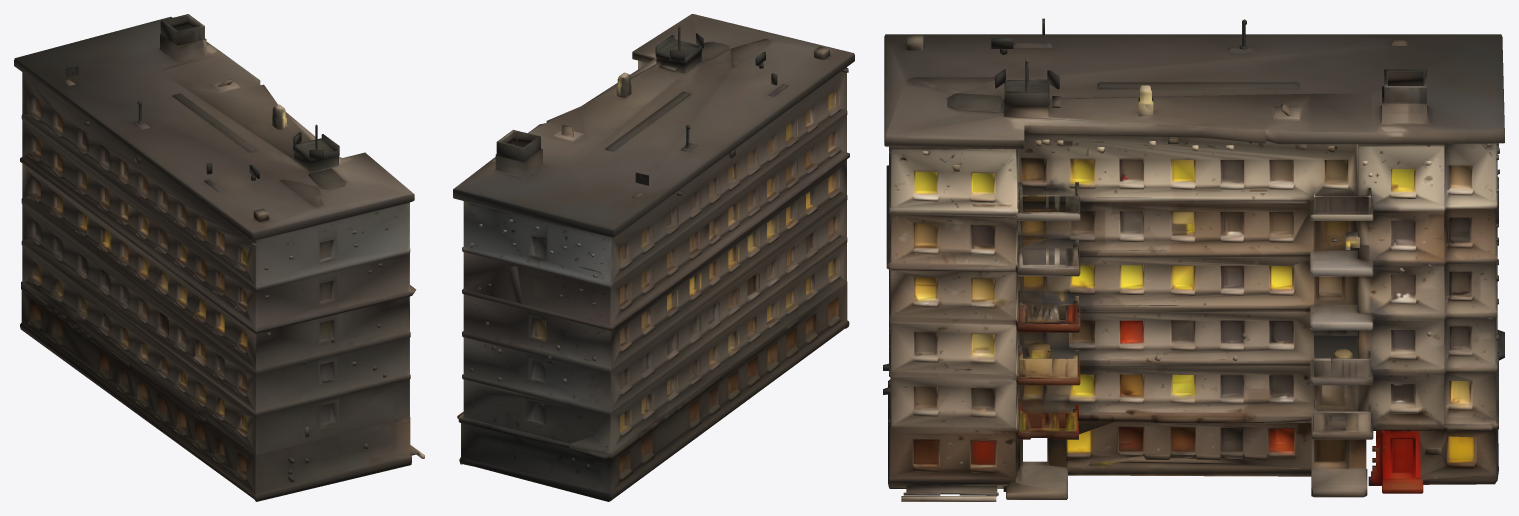
Rendered from khrushchevka.glb.
3 views of the same model, side by side, from view 1: azimuth 30°, elevation 25°; view 2: azimuth 150°, elevation 25°; view 3: azimuth 270°, elevation 25° (orthographic). The views are drawn at different scales.
Visible parts, largest first — view 1: tripo_node_bf4c5ae8-0c09-4c51-b22f-a6cc8bde95ef; view 2: tripo_node_bf4c5ae8-0c09-4c51-b22f-a6cc8bde95ef; view 3: tripo_node_bf4c5ae8-0c09-4c51-b22f-a6cc8bde95ef.
Part boxes in pixels (bbox=[...]): tripo_node_bf4c5ae8-0c09-4c51-b22f-a6cc8bde95ef: bbox=[14, 14, 424, 501]; tripo_node_bf4c5ae8-0c09-4c51-b22f-a6cc8bde95ef: bbox=[453, 14, 854, 501]; tripo_node_bf4c5ae8-0c09-4c51-b22f-a6cc8bde95ef: bbox=[883, 18, 1504, 501].
Size of the model in its own units: 3.6 by 6 by 8.35.
Materials: 1 (1 with a texture image).
